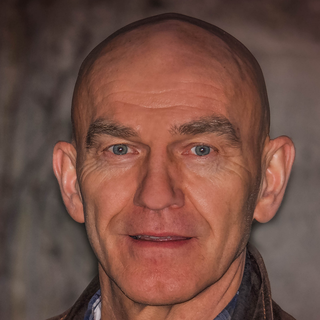eye: (98, 136, 147, 163), (176, 139, 221, 162)
